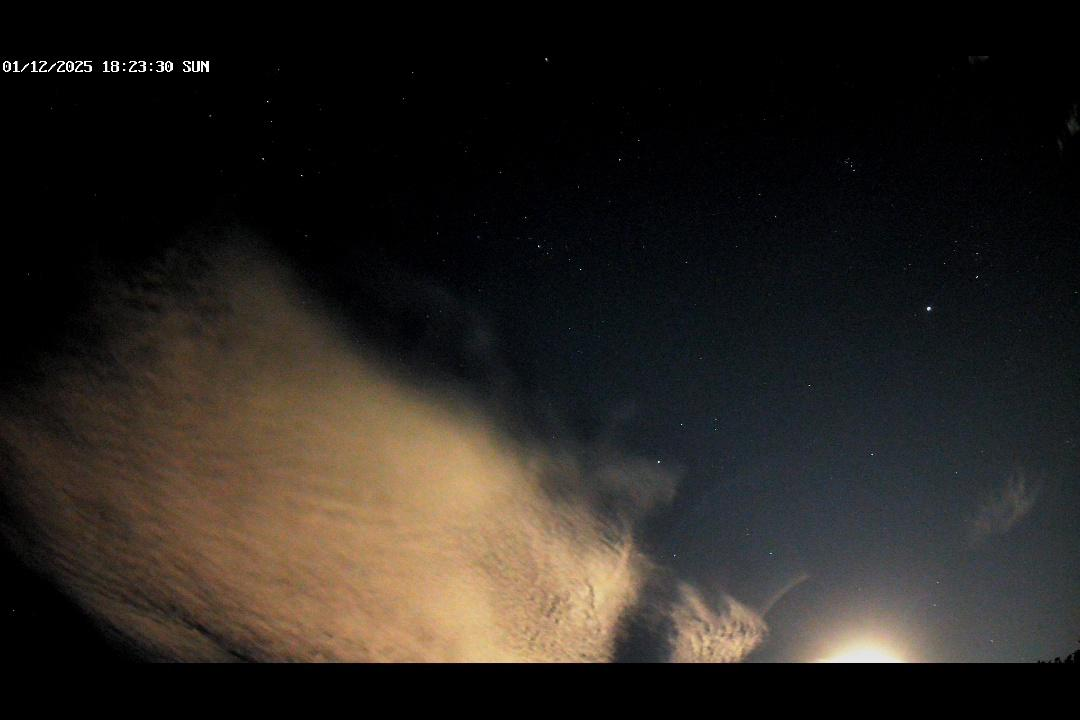Plane: (536, 54, 562, 68)
